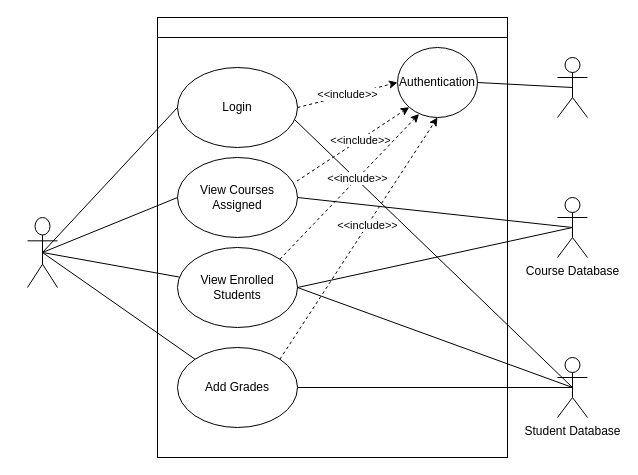
The diagram is 638 pixels wide and 475 high, and some of its shapes have lost their labels. The shapes that lost their labels are listed below. From the top down, each one's centre as x and y in pixels, then its label:
At [332,27]: "Course Registration System".
At [572,87]: "Admin".
At [42,252]: "Professor".
